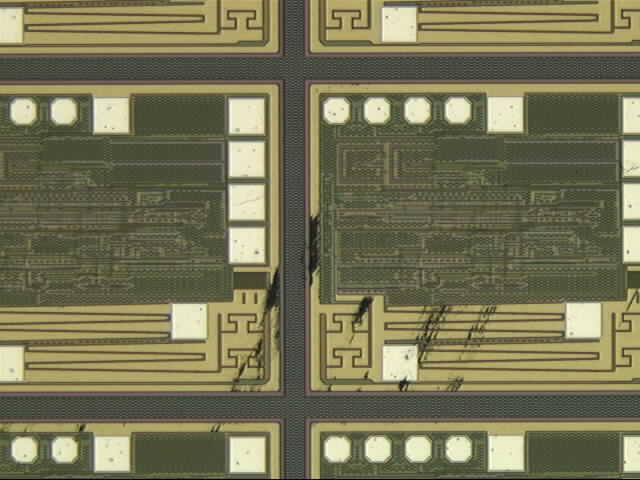SCRATCH: (202, 213, 506, 466)
